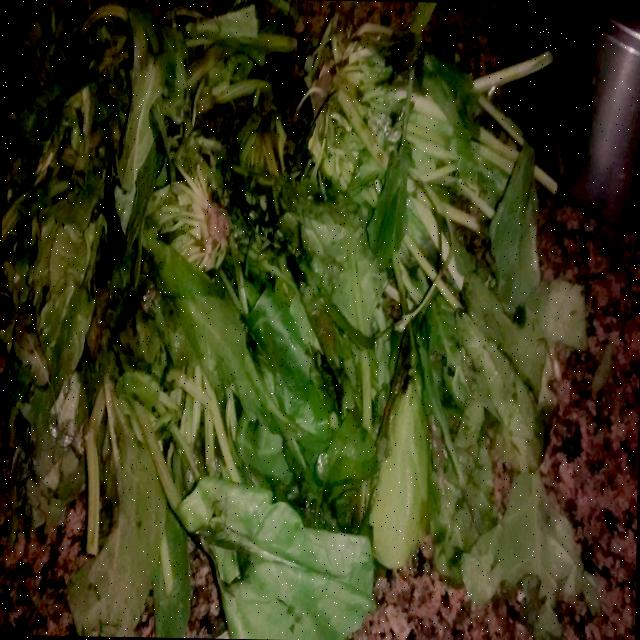rotten spinach: (182, 260, 386, 486), (6, 37, 110, 400), (328, 56, 512, 246), (174, 486, 376, 635), (436, 454, 592, 622), (186, 15, 295, 178), (452, 274, 548, 454)
